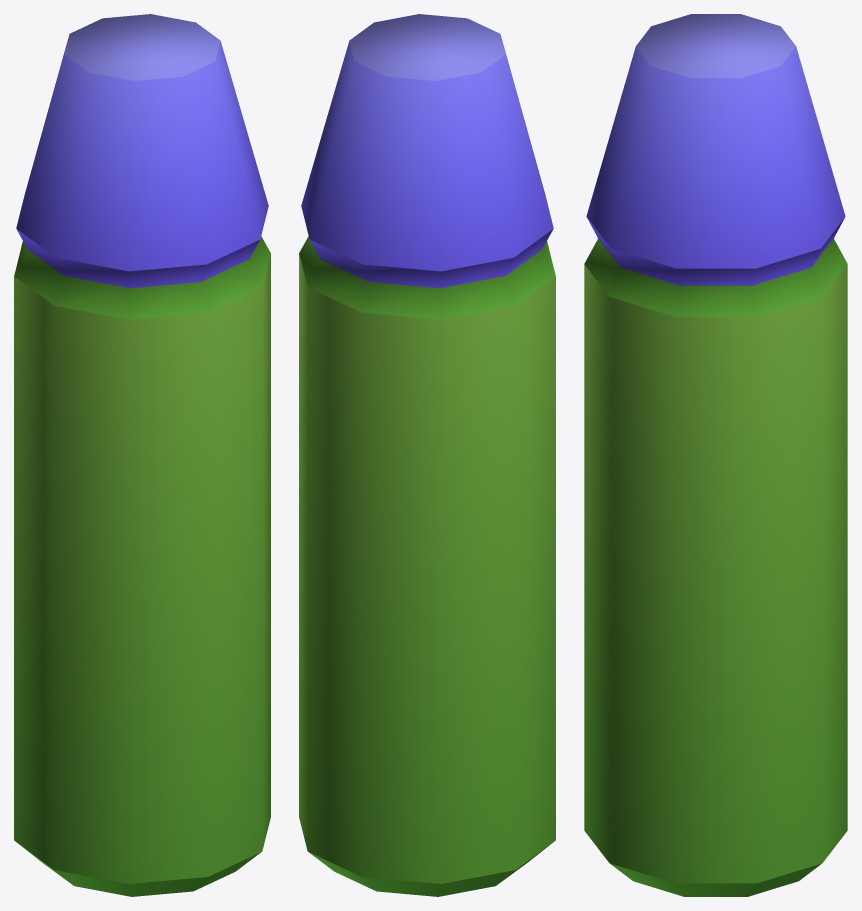
Rendered from Bullet C.fbx.
The picture shows the model from 3 angles, left to right: view 1: azimuth 30°, elevation 25°; view 2: azimuth 150°, elevation 25°; view 3: azimuth 270°, elevation 25°; orthographic projection.
Visible parts, largest first — view 1: Bullet C; view 2: Bullet C; view 3: Bullet C.
Part boxes in pixels (x1=…): Bullet C: x1=14, y1=14, x2=270, y2=896; Bullet C: x1=299, y1=14, x2=555, y2=896; Bullet C: x1=584, y1=14, x2=847, y2=896.
Size of the model in its own units: 0.0549 by 0.1955 by 0.0577.
